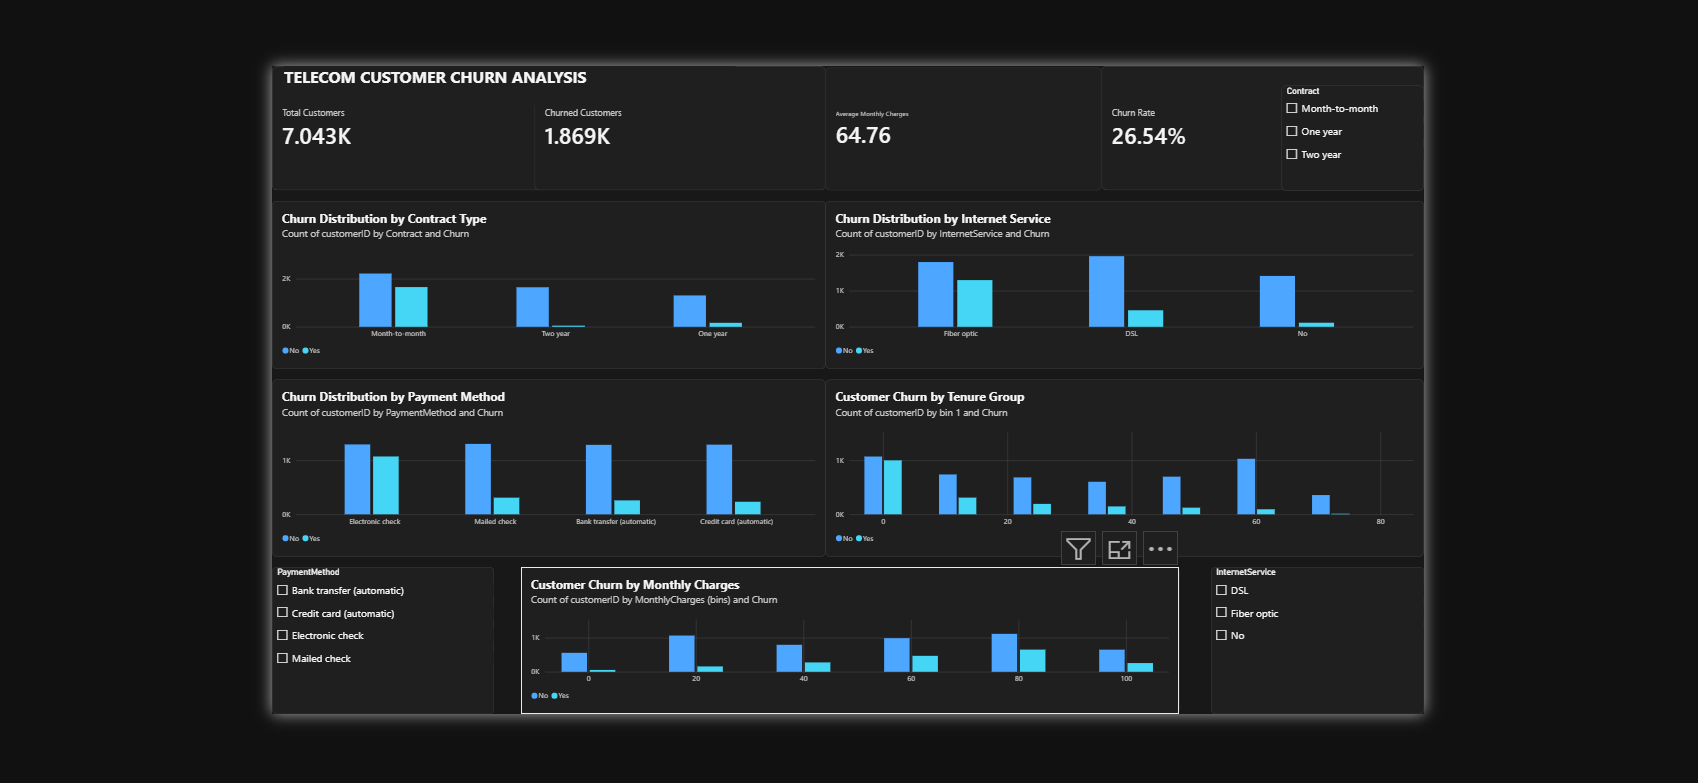

Layout of this report page (visuals, bound fields, positions):
{"tool":"powerbi","page":{"name":"Page 1","canvas":[1920,1080],"ordinal":0},"visuals":[{"type":"cardVisual","fields":{"Data":["CountNonNull(WA_Fn-UseC_-Telco-Customer-Churn.customerID)"]},"box":[0,0,462.5,207.5],"z":0},{"type":"cardVisual","fields":{"Data":["CountNonNull(WA_Fn-UseC_-Telco-Customer-Churn.customerID)"]},"box":[437.5,0,485,207.5],"z":1000},{"type":"cardVisual","fields":{"Data":["Avg(WA_Fn-UseC_-Telco-Customer-Churn.MonthlyCharges)"]},"box":[922.5,2.5,460,205],"z":2000},{"type":"cardVisual","fields":{"Data":["WA_Fn-UseC_-Telco-Customer-Churn.Churn Rate"]},"box":[1382.5,0,537.5,207.5],"z":3000},{"type":"clusteredColumnChart","title":"Churn Distribution by Contract Type","fields":{"Category":["WA_Fn-UseC_-Telco-Customer-Churn.Contract"],"Series":["WA_Fn-UseC_-Telco-Customer-Churn.Churn"],"Y":["CountNonNull(WA_Fn-UseC_-Telco-Customer-Churn.customerID)"]},"box":[0,225,922.5,280],"z":4000},{"type":"clusteredColumnChart","title":"Churn Distribution by Internet Service","fields":{"Category":["WA_Fn-UseC_-Telco-Customer-Churn.InternetService"],"Series":["WA_Fn-UseC_-Telco-Customer-Churn.Churn"],"Y":["CountNonNull(WA_Fn-UseC_-Telco-Customer-Churn.customerID)"]},"box":[922.5,225,997.5,280],"z":5000},{"type":"clusteredColumnChart","title":"Churn Distribution by Payment Method","fields":{"Category":["WA_Fn-UseC_-Telco-Customer-Churn.PaymentMethod"],"Series":["WA_Fn-UseC_-Telco-Customer-Churn.Churn"],"Y":["CountNonNull(WA_Fn-UseC_-Telco-Customer-Churn.customerID)"]},"box":[0,522.5,922.5,295],"z":6000},{"type":"clusteredColumnChart","title":"Customer Churn by Tenure Group","fields":{"Category":["WA_Fn-UseC_-Telco-Customer-Churn.bin 1"],"Series":["WA_Fn-UseC_-Telco-Customer-Churn.Churn"],"Y":["CountNonNull(WA_Fn-UseC_-Telco-Customer-Churn.customerID)"]},"box":[922.5,522.5,997.5,295],"z":7000},{"type":"clusteredColumnChart","title":"Customer Churn by Monthly Charges","fields":{"Category":["WA_Fn-UseC_-Telco-Customer-Churn.MonthlyCharges (bins)"],"Series":["WA_Fn-UseC_-Telco-Customer-Churn.Churn"],"Y":["CountNonNull(WA_Fn-UseC_-Telco-Customer-Churn.customerID)"]},"box":[415,835,1097.5,245],"z":8000},{"type":"textbox","box":[20,0,752.5,65],"z":8001},{"type":"slicer","fields":{"Values":["WA_Fn-UseC_-Telco-Customer-Churn.Contract"]},"box":[1682.5,32.5,237.5,175],"z":8002},{"type":"slicer","fields":{"Values":["WA_Fn-UseC_-Telco-Customer-Churn.InternetService"]},"box":[1565,835,355,245],"z":8003},{"type":"slicer","fields":{"Values":["WA_Fn-UseC_-Telco-Customer-Churn.PaymentMethod"]},"box":[0,835,370,245],"z":8004}]}

Visuals, with their boxes on the page's 1920x1080 design canvas (x1, y1, x2, y2). These are canvas units, not pixel positions in the 1698x783 screenshot, which may show the page scaled, cropped or inside an application window:
cardVisual - CountNonNull(WA_Fn-UseC_-Telco-Customer-Churn.customerID): rect(0, 0, 462, 208)
cardVisual - CountNonNull(WA_Fn-UseC_-Telco-Customer-Churn.customerID): rect(438, 0, 922, 208)
cardVisual - Avg(WA_Fn-UseC_-Telco-Customer-Churn.MonthlyCharges): rect(922, 2, 1382, 208)
cardVisual - WA_Fn-UseC_-Telco-Customer-Churn.Churn Rate: rect(1382, 0, 1920, 208)
"Churn Distribution by Contract Type" clusteredColumnChart: rect(0, 225, 922, 505)
"Churn Distribution by Internet Service" clusteredColumnChart: rect(922, 225, 1920, 505)
"Churn Distribution by Payment Method" clusteredColumnChart: rect(0, 522, 922, 818)
"Customer Churn by Tenure Group" clusteredColumnChart: rect(922, 522, 1920, 818)
"Customer Churn by Monthly Charges" clusteredColumnChart: rect(415, 835, 1512, 1080)
textbox: rect(20, 0, 772, 65)
slicer - WA_Fn-UseC_-Telco-Customer-Churn.Contract: rect(1682, 32, 1920, 208)
slicer - WA_Fn-UseC_-Telco-Customer-Churn.InternetService: rect(1565, 835, 1920, 1080)
slicer - WA_Fn-UseC_-Telco-Customer-Churn.PaymentMethod: rect(0, 835, 370, 1080)
